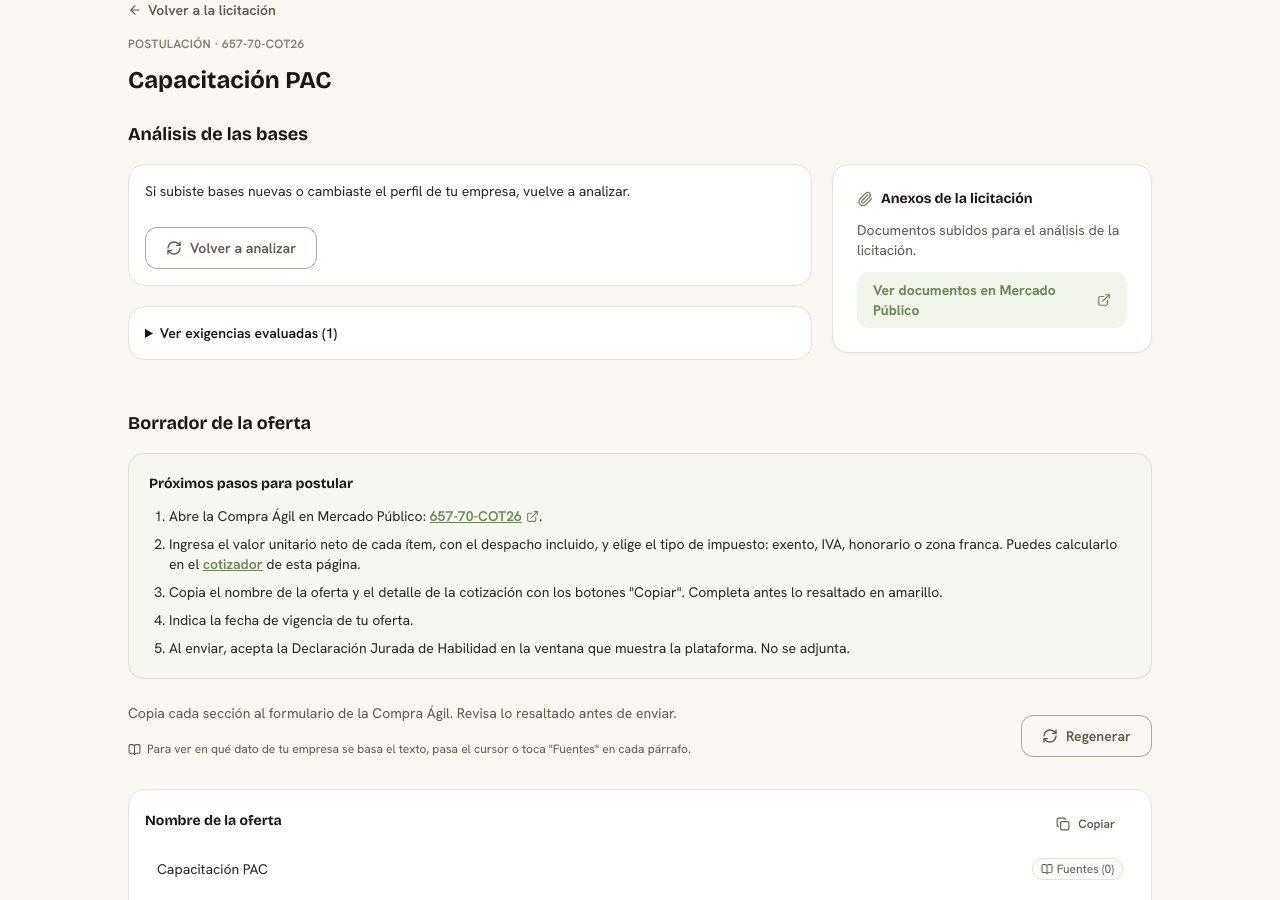
Test case: ProposalView › regenerar confirma al terminar con un aviso que se va solo
The image size is (1280, 900).
Click the button "Regenerar": [1086, 736] box [1021,715,1152,757]
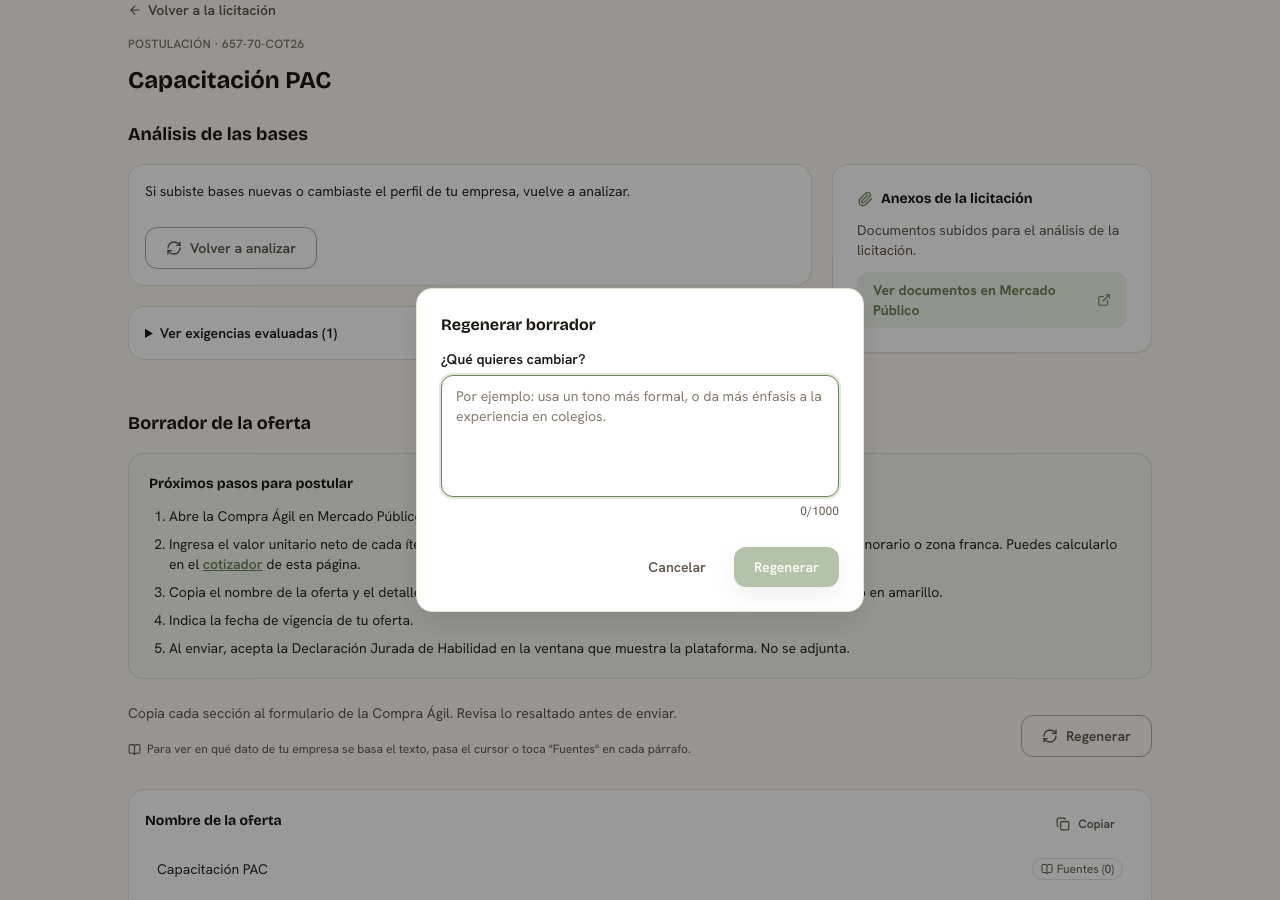
In the text box: [640, 436] box [441,375,839,497], type "Más formal"
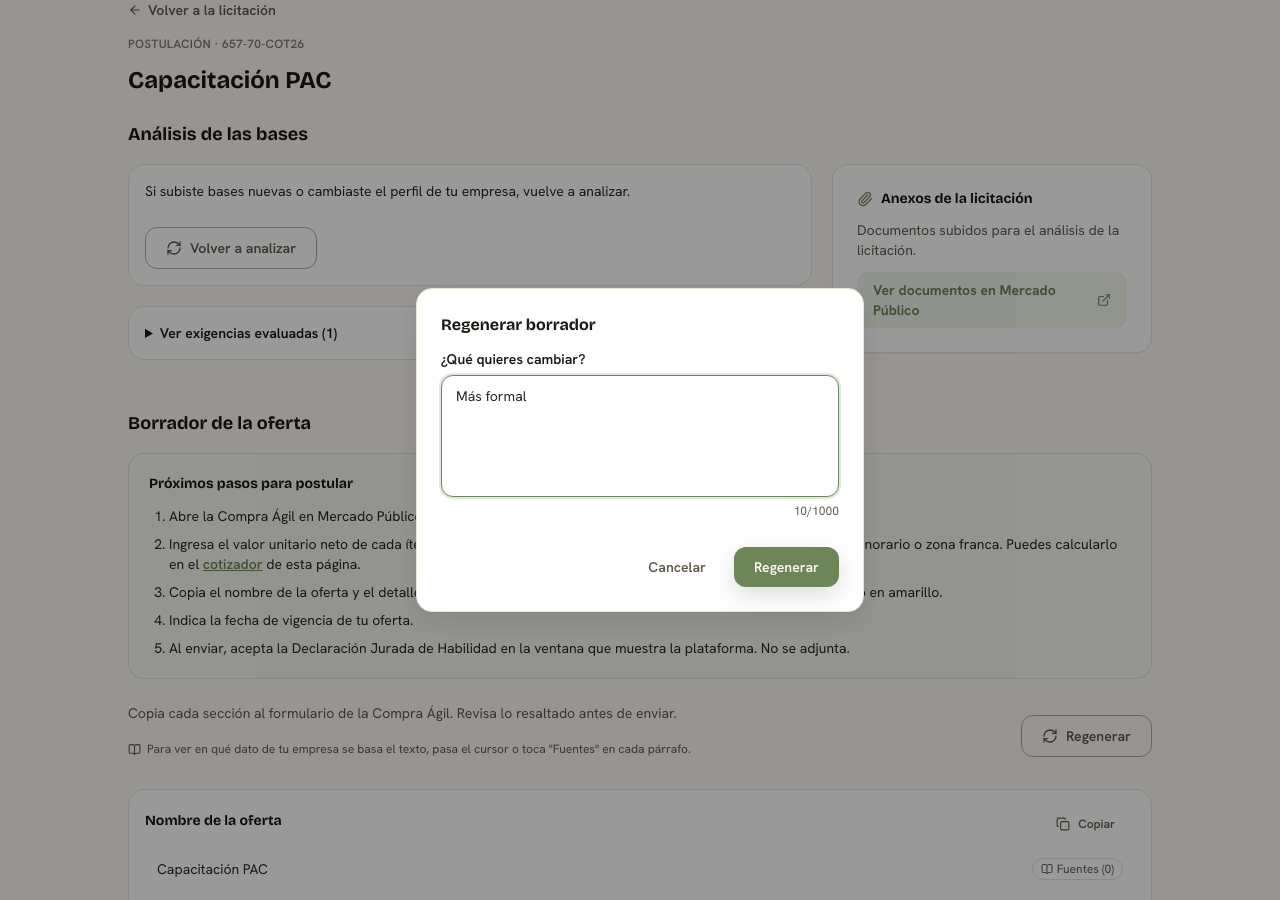
Click the button "Regenerar": [786, 567] box [734,547,839,587]
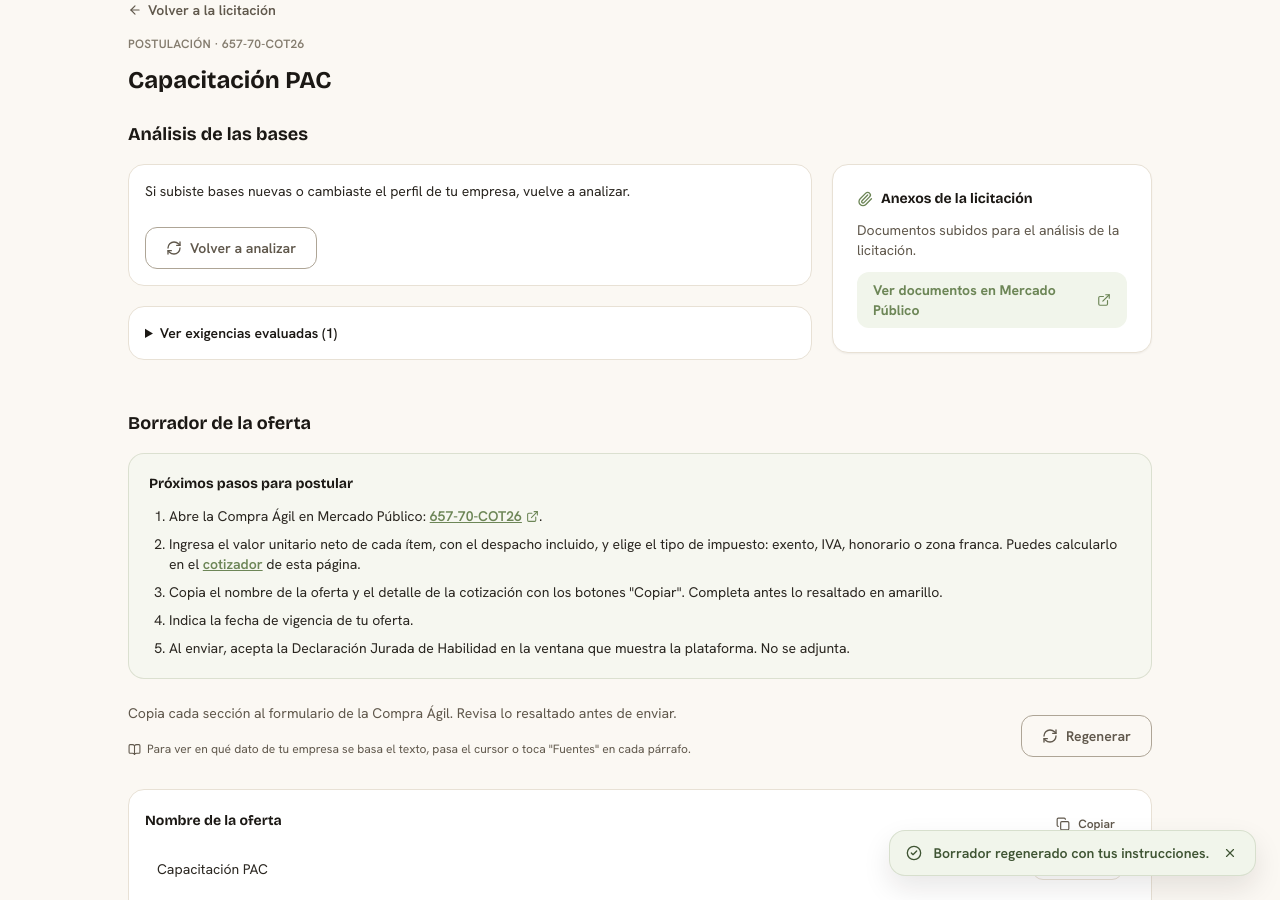
Result: the text "Borrador regenerado con tus instrucciones." is shown at [934,843,1209,863]
